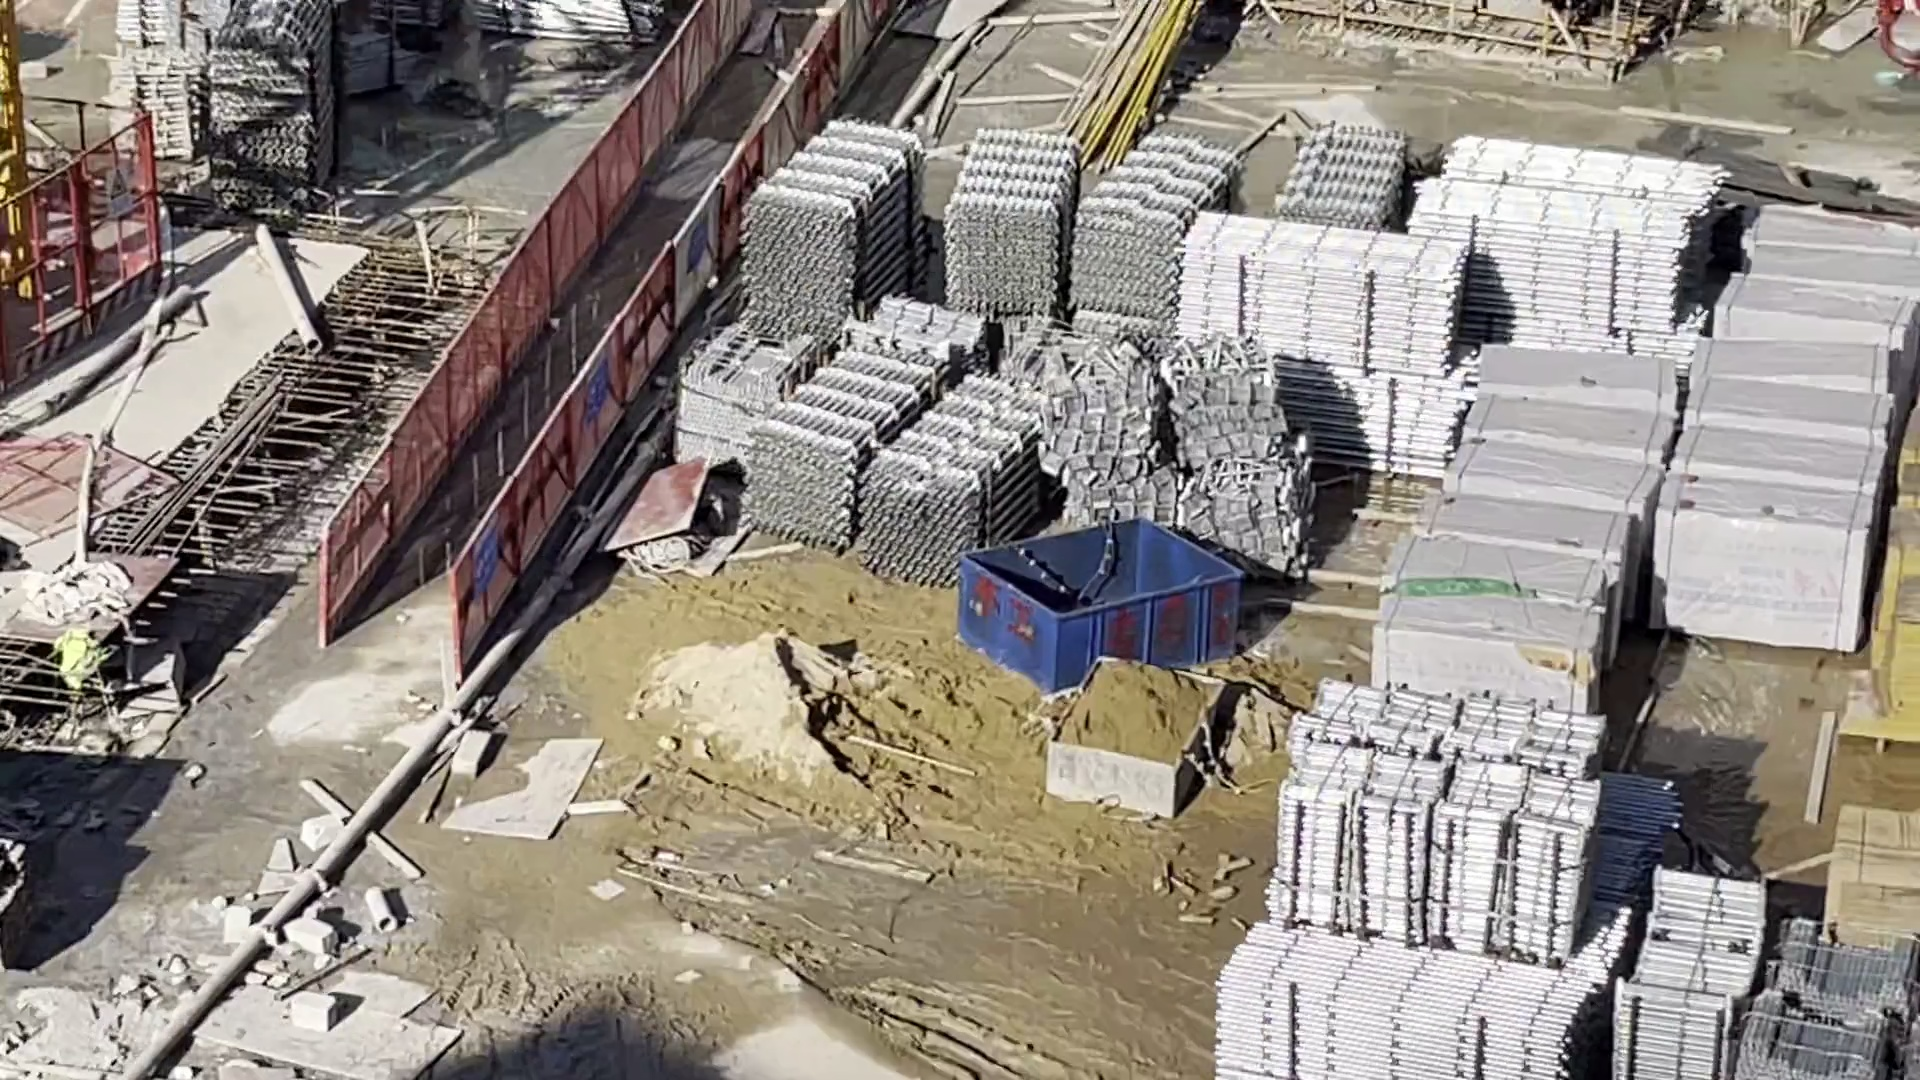board: (1879, 397, 1919, 756), (1824, 814, 1920, 924)
fence: (324, 1, 855, 649)
hopper: (961, 520, 1244, 684), (1050, 658, 1226, 818)
scaffold: (1278, 691, 1597, 949), (1182, 215, 1458, 487), (740, 357, 1043, 578), (1221, 926, 1573, 1080), (1408, 142, 1712, 319), (940, 135, 1228, 313), (742, 135, 919, 328), (1619, 870, 1760, 1080), (1745, 918, 1915, 1080), (206, 1, 320, 185), (113, 1, 202, 164), (1278, 127, 1400, 227), (492, 1, 644, 42)
slogan: (473, 520, 496, 597), (589, 353, 611, 422)
